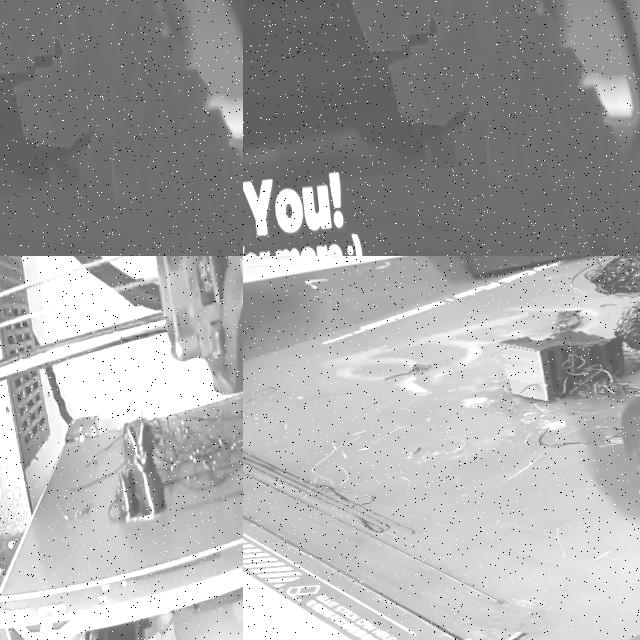spaghetti: (524, 256, 640, 415), (136, 375, 243, 493)
